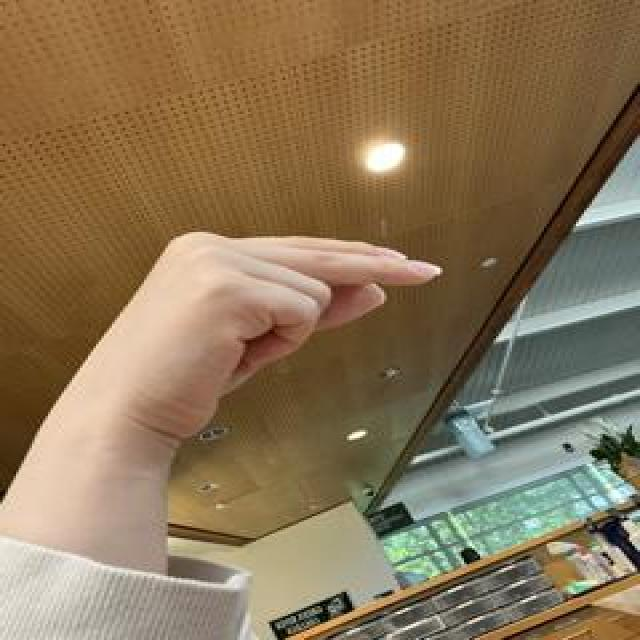H: (15, 209, 449, 501)
